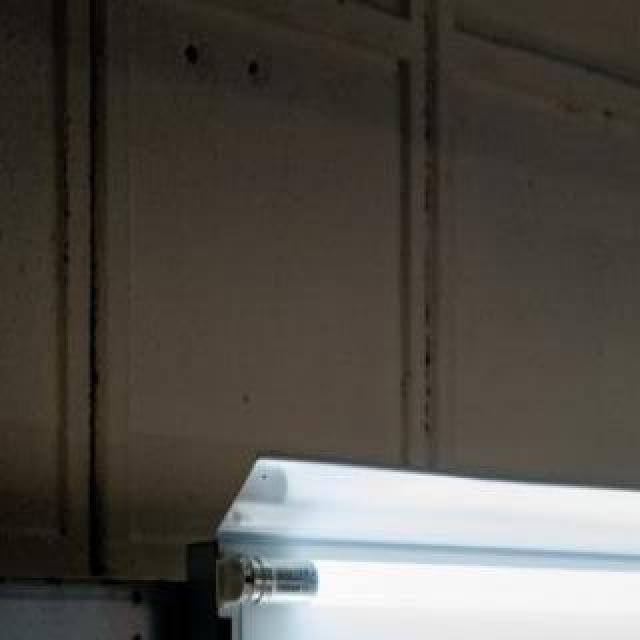fluorescent tube: (206, 538, 640, 634), (214, 634, 640, 640)
